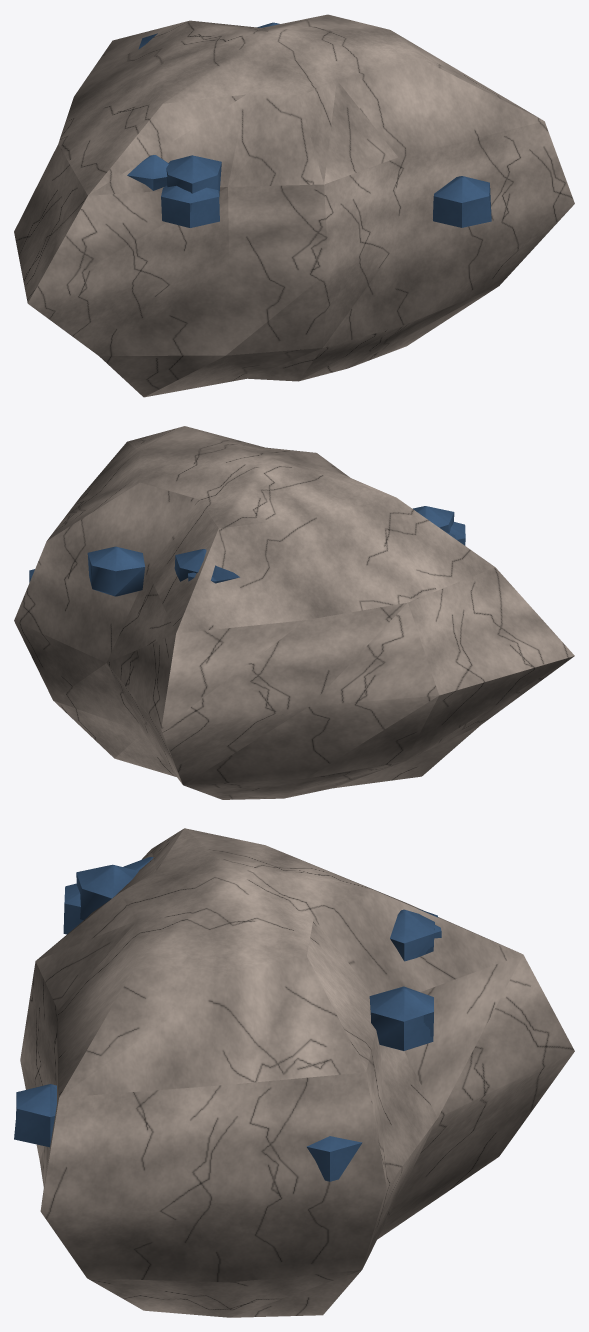
The model's file is porous_volcanic.glb.
3 views of the same model, one above another, from view 1: azimuth 30°, elevation 25°; view 2: azimuth 150°, elevation 25°; view 3: azimuth 270°, elevation 25° (orthographic). The views are drawn at different scales.
Visible parts, largest first — view 1: DL008_PorousVolcanicStone_stone_warm, DL008_PorousVolcanicStone_shadow_blue; view 2: DL008_PorousVolcanicStone_stone_warm, DL008_PorousVolcanicStone_shadow_blue; view 3: DL008_PorousVolcanicStone_stone_warm, DL008_PorousVolcanicStone_shadow_blue.
Part boxes in pixels (left/top/right/bottom): DL008_PorousVolcanicStone_stone_warm: left=14, top=14, right=574, bottom=397; DL008_PorousVolcanicStone_shadow_blue: left=127, top=22, right=491, bottom=227; DL008_PorousVolcanicStone_stone_warm: left=14, top=426, right=574, bottom=799; DL008_PorousVolcanicStone_shadow_blue: left=29, top=506, right=465, bottom=596; DL008_PorousVolcanicStone_stone_warm: left=20, top=828, right=574, bottom=1317; DL008_PorousVolcanicStone_shadow_blue: left=14, top=857, right=441, bottom=1181.
Size of the model in its own units: 2.6 by 1.6 by 2.03.
2 materials, 2 textured.
